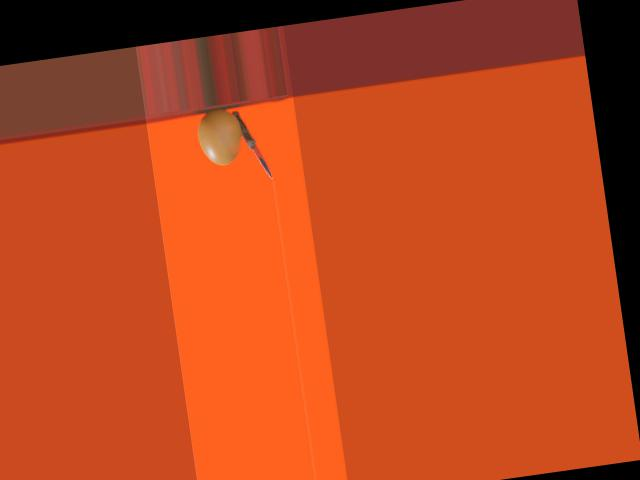egg: (195, 107, 245, 166)
